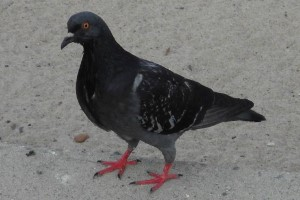pigeon: (58, 9, 267, 195)
